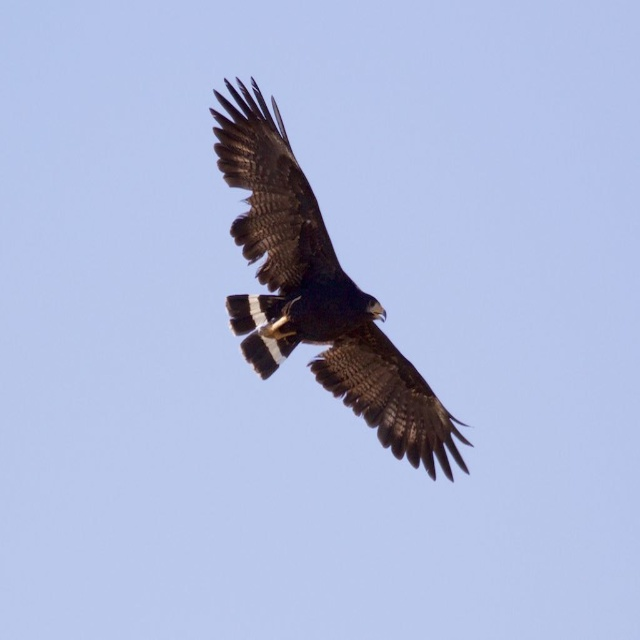Eagle: (215, 65, 486, 523)
